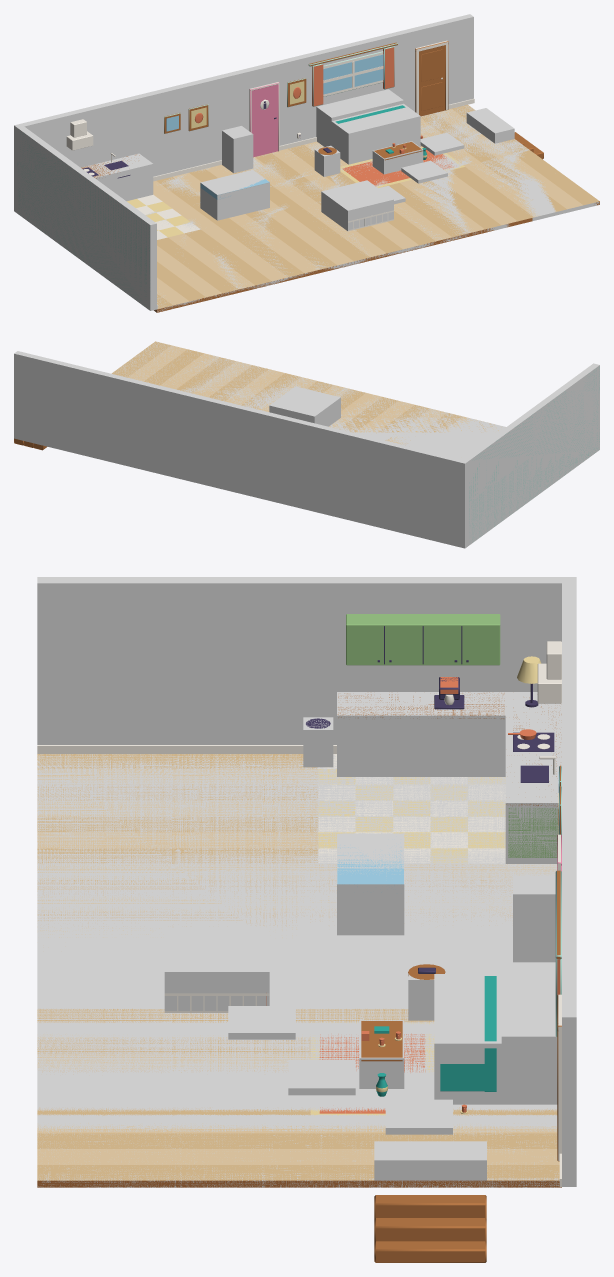
File: salon_kitchen.glb
3 views of the same model, one above another, from view 1: azimuth 30°, elevation 25°; view 2: azimuth 150°, elevation 25°; view 3: azimuth 270°, elevation 25° (orthographic). The views are drawn at different scales.
Visible parts, largest first — view 1: floor, COL_wall_back, walls, COL_wall_side, NAV_floor, COL_sofa, ZONE_safe_playpen, COL_dining_table, furniture, COL_counter_back, ZONE_hidden_behind_sofa, COL_plant (+5 smaller); view 2: COL_wall_back, COL_wall_side, floor, NAV_floor, walls, ZONE_safe_playpen; view 3: NAV_floor, floor, COL_wall_side, furniture, COL_counter, COL_wall_back, ZONE_safe_playpen, ZONE_hidden_behind_sofa, COL_counter_back, COL_sofa, COL_dining_table, walls (+9 smaller).
Part boxes in pixels (bbox=[...]): floor: bbox=[127, 104, 599, 312]; COL_wall_back: bbox=[14, 14, 473, 213]; walls: bbox=[17, 40, 474, 309]; COL_wall_side: bbox=[17, 126, 156, 310]; NAV_floor: bbox=[146, 105, 599, 312]; COL_sofa: bbox=[331, 103, 420, 164]; ZONE_safe_playpen: bbox=[321, 180, 393, 230]; COL_dining_table: bbox=[200, 169, 269, 220]; furniture: bbox=[66, 105, 543, 231]; COL_counter_back: bbox=[82, 153, 153, 201]; ZONE_hidden_behind_sofa: bbox=[316, 89, 403, 146]; COL_plant: bbox=[222, 126, 253, 173]; COL_wall_back: bbox=[14, 351, 468, 548]; COL_wall_side: bbox=[462, 363, 599, 545]; floor: bbox=[112, 341, 501, 445]; NAV_floor: bbox=[113, 342, 505, 459]; walls: bbox=[469, 366, 599, 542]; ZONE_safe_playpen: bbox=[269, 386, 340, 426]; NAV_floor: bbox=[37, 754, 560, 1187]; floor: bbox=[37, 754, 561, 1187]; COL_wall_side: bbox=[37, 577, 561, 744]; furniture: bbox=[164, 614, 561, 1262]; COL_counter: bbox=[337, 692, 505, 776]; COL_wall_back: bbox=[562, 577, 576, 1186]; ZONE_safe_playpen: bbox=[164, 927, 269, 1010]; ZONE_hidden_behind_sofa: bbox=[501, 967, 557, 1104]; COL_counter_back: bbox=[505, 692, 561, 863]; COL_sofa: bbox=[434, 974, 501, 1104]; COL_dining_table: bbox=[337, 833, 404, 935]; walls: bbox=[37, 745, 561, 1186].
Size of the model in its own units: 14.6 by 3.3 by 7.2.
